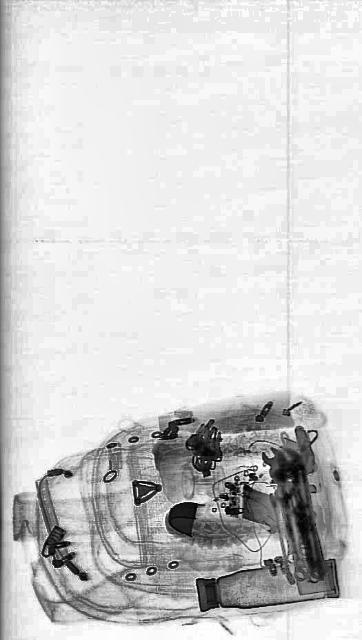Pliers: (260, 441, 310, 585)
